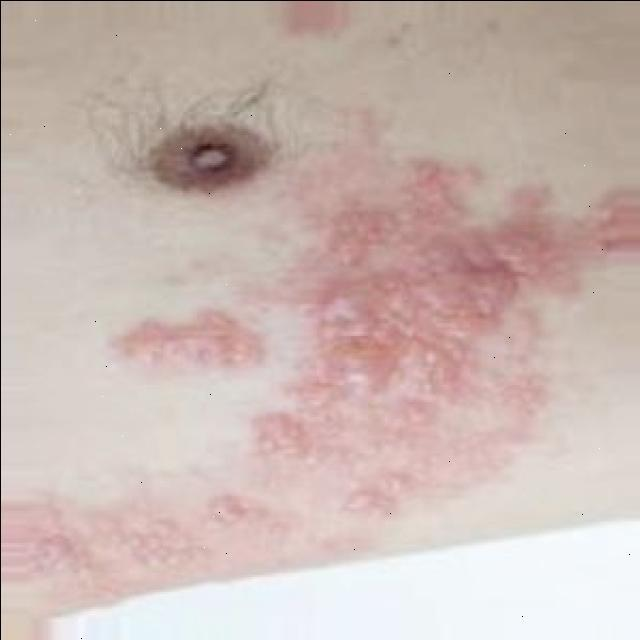Shingles: (34, 163, 640, 610)
